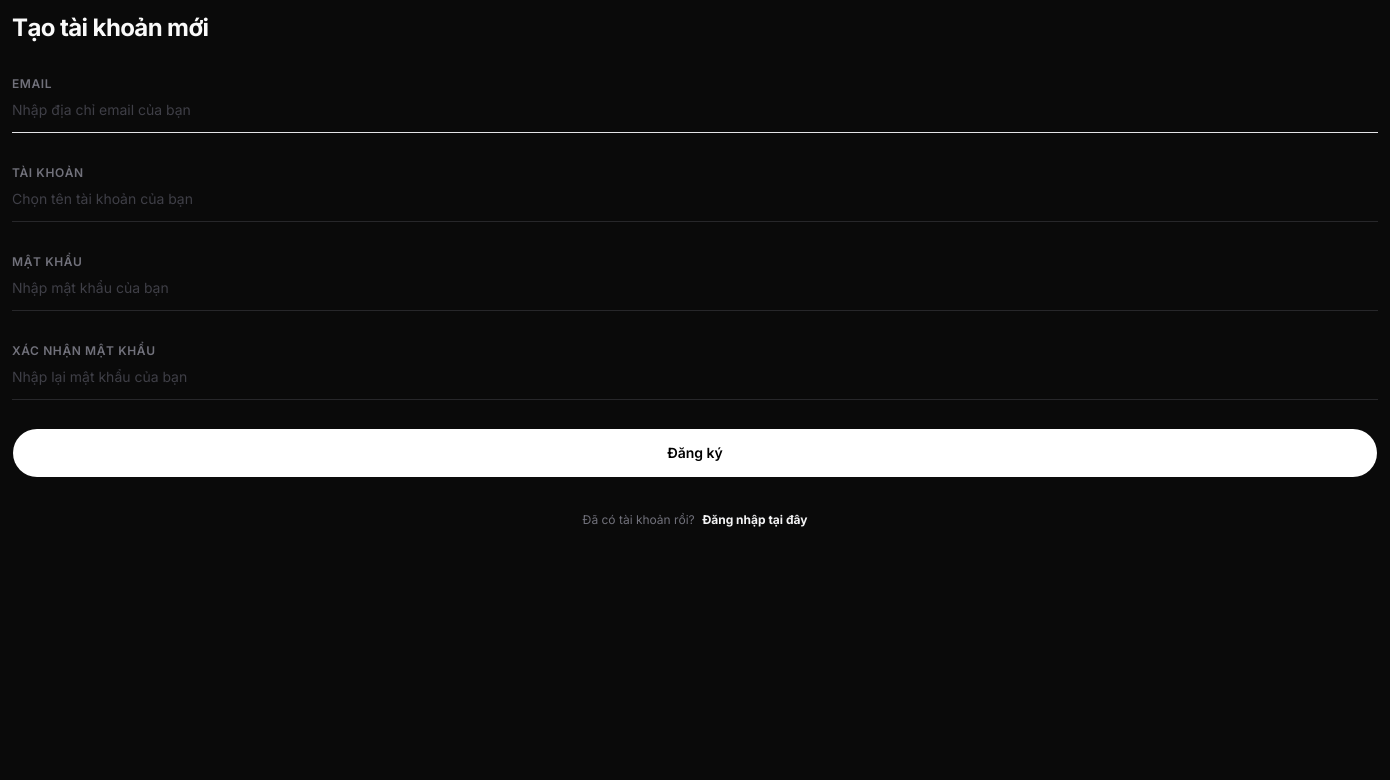
Test: RegisterForm (real BE) › shows emailTaken on 409
Type "new@ysocial.dev" into the field with placeholder "Nhập địa chỉ email của bạn" at (695, 110), box x1=12 y1=100 x2=1378 y2=120
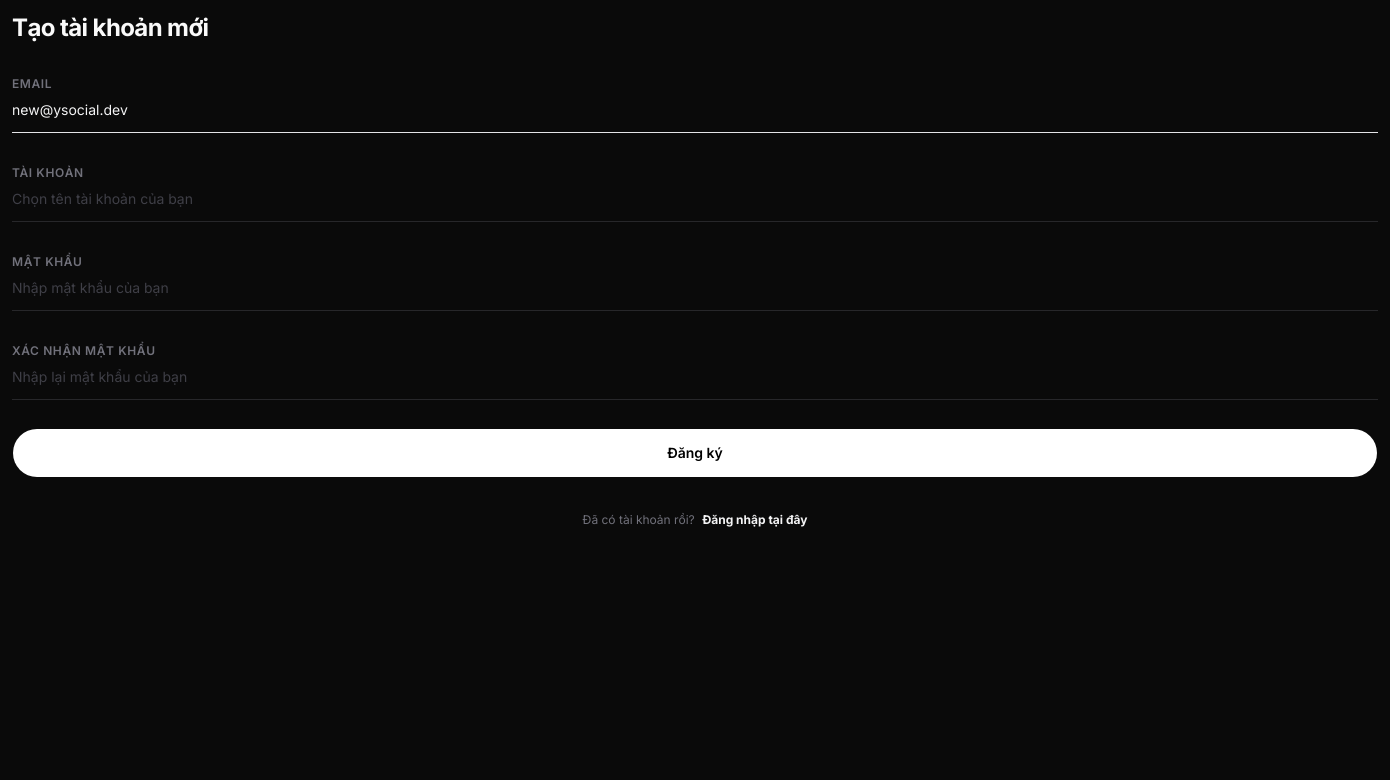
Type "new_user" into the field with placeholder "Chọn tên tài khoản của bạn" at (695, 199), box x1=12 y1=189 x2=1378 y2=209
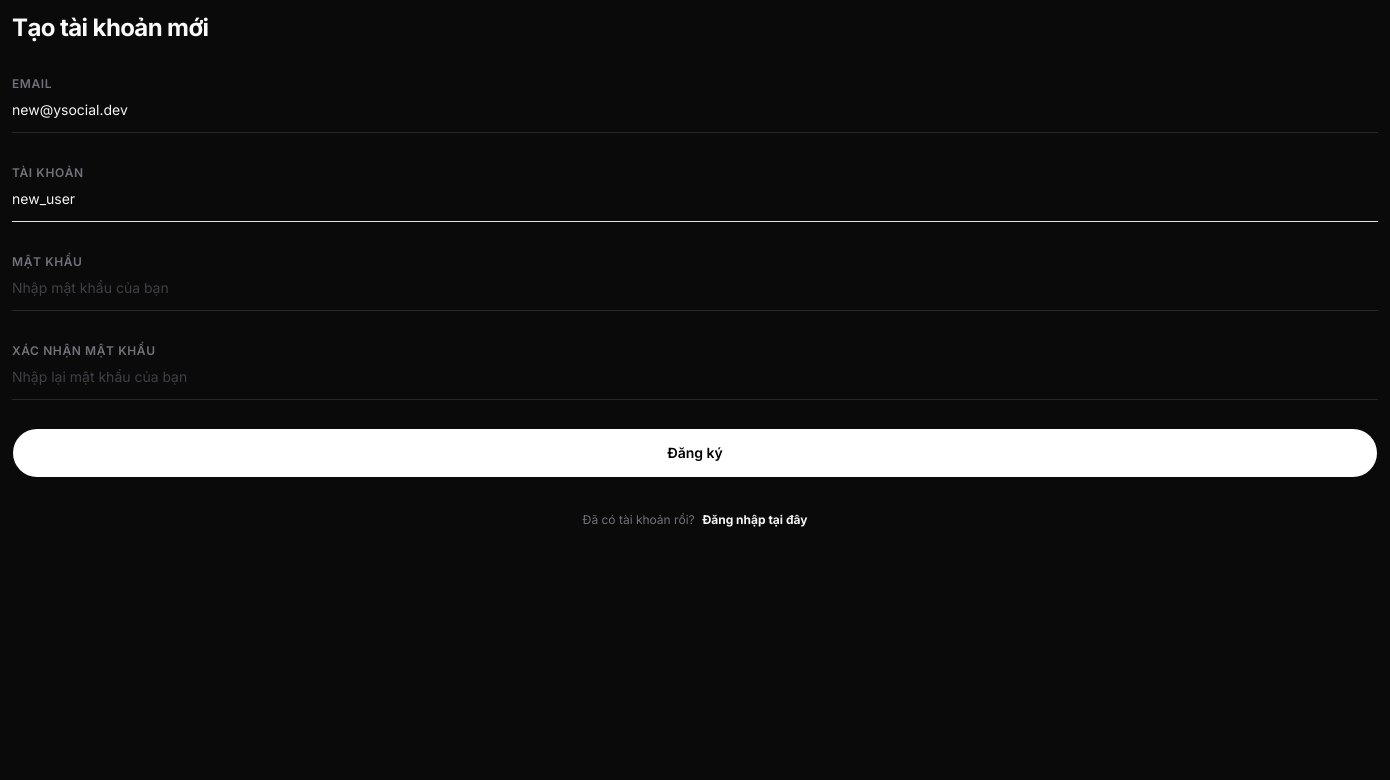
Type "secret1" into the password field with placeholder "Nhập mật khẩu của bạn" at (695, 288), box x1=12 y1=278 x2=1378 y2=298
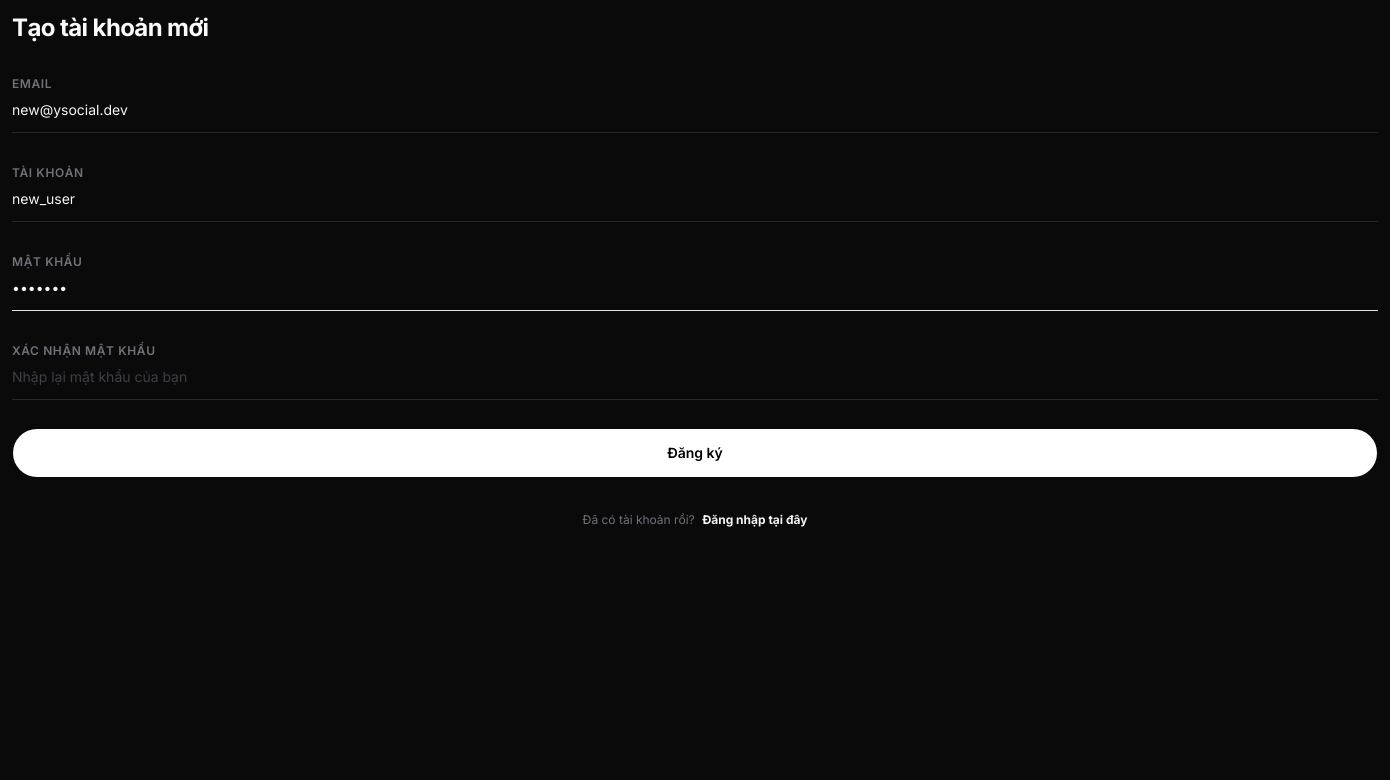
Type "secret1" into the password field with placeholder "Nhập lại mật khẩu của bạn" at (695, 377), box x1=12 y1=367 x2=1378 y2=387
Then press Enter
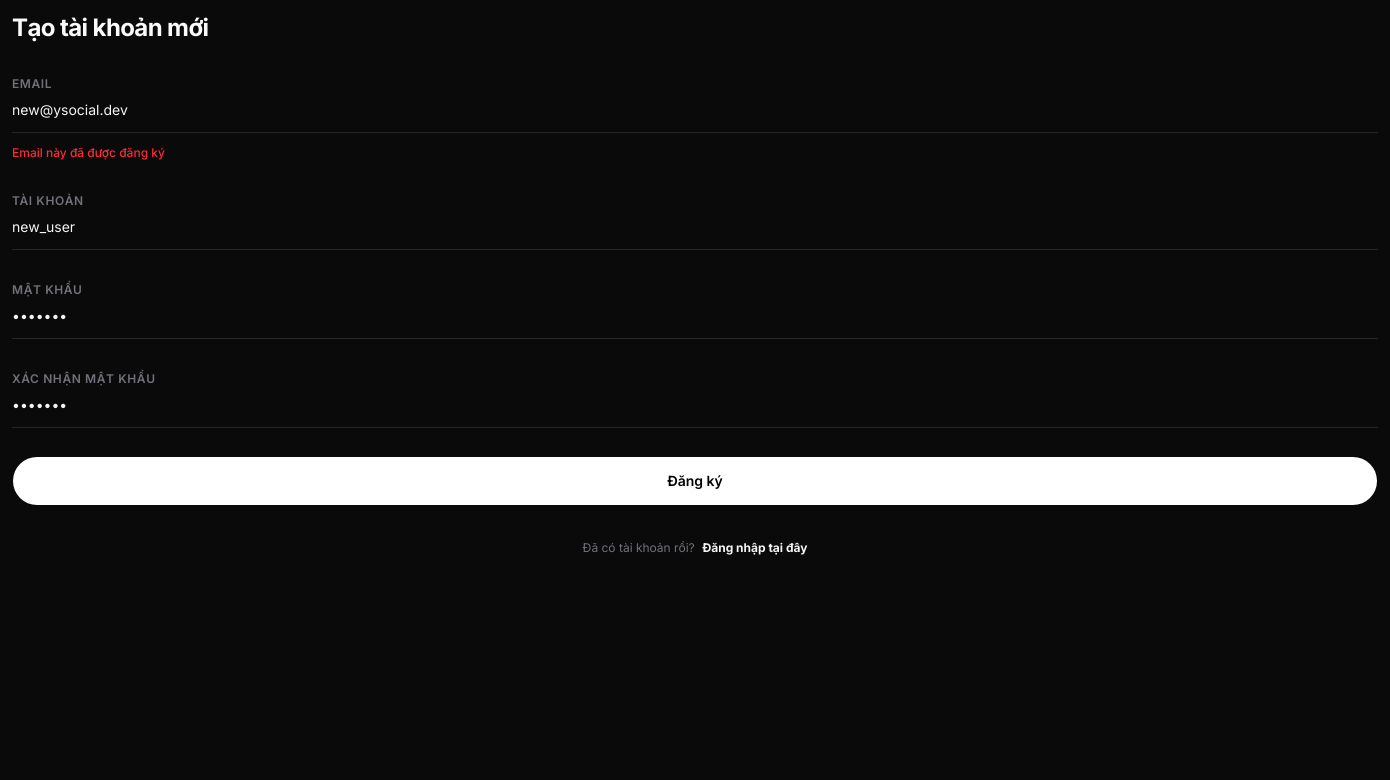
Expected: the text "Email này đã được đăng ký" is shown, x1=12 y1=145 x2=165 y2=160
